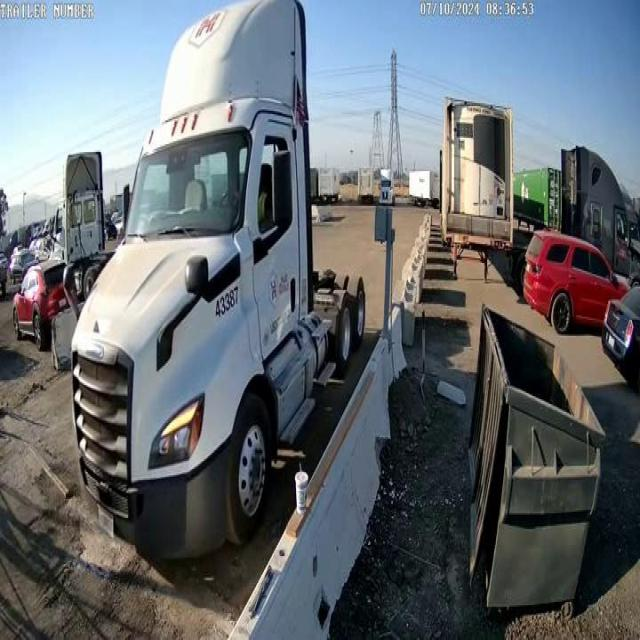TRUCK_OUT: (68, 1, 367, 563)
